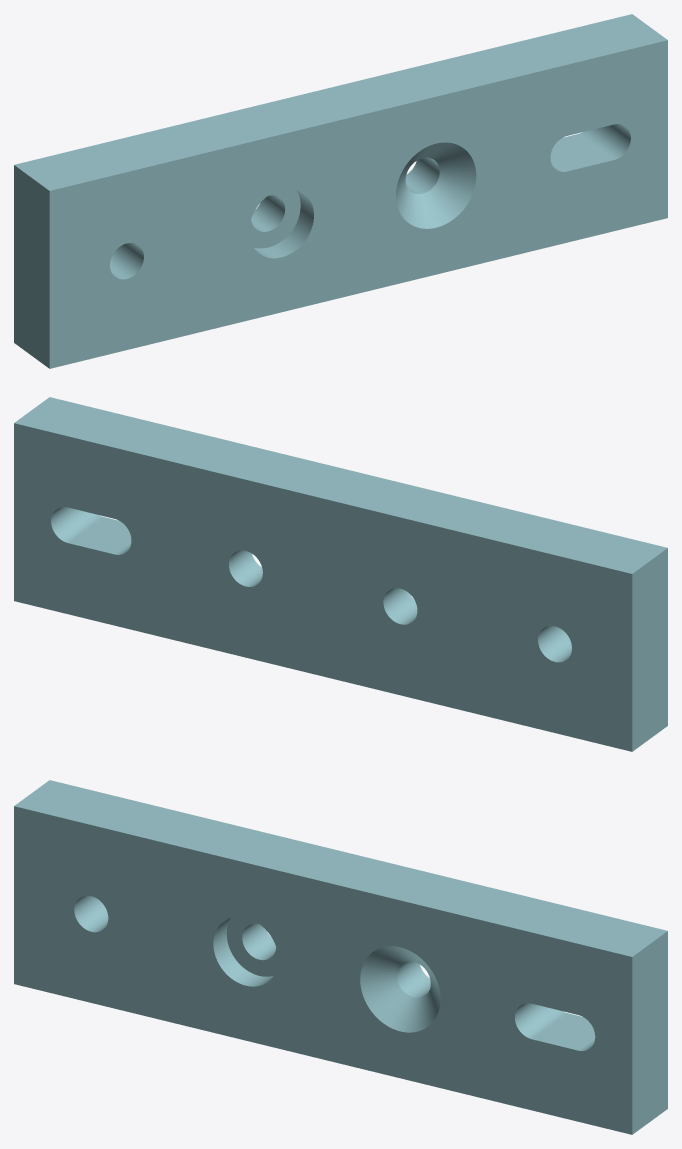
Rendered from assembly.glb.
3 views of the same model, one above another, from view 1: azimuth 30°, elevation 25°; view 2: azimuth 150°, elevation 25°; view 3: azimuth 330°, elevation 25° (orthographic).
Visible parts, largest first — view 1: hole_card; view 2: hole_card; view 3: hole_card.
Boxes of the visible parts, box(x1,y1,x2,y2) form: hole_card: box(14, 14, 667, 368); hole_card: box(14, 397, 667, 751); hole_card: box(14, 780, 667, 1134).
Bounding box in the file's own units: 0.08 × 0.022 × 0.008.
